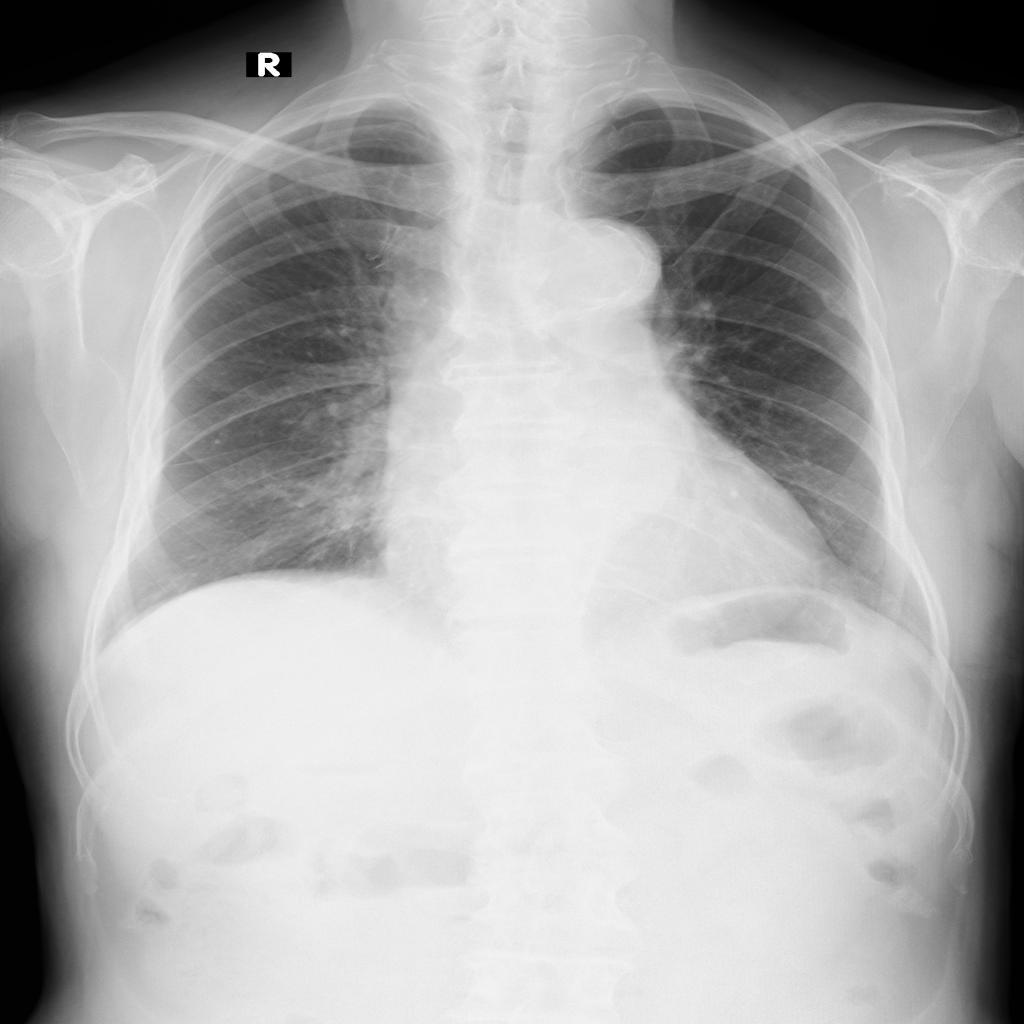Nodule: (214, 439, 222, 445)
